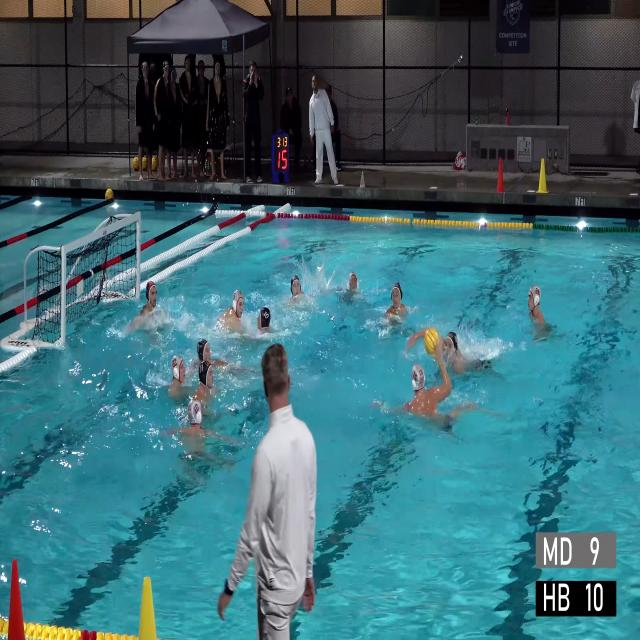ball: (424, 327, 438, 354), (105, 188, 114, 200), (133, 157, 139, 171), (152, 157, 158, 171), (142, 157, 147, 171)
